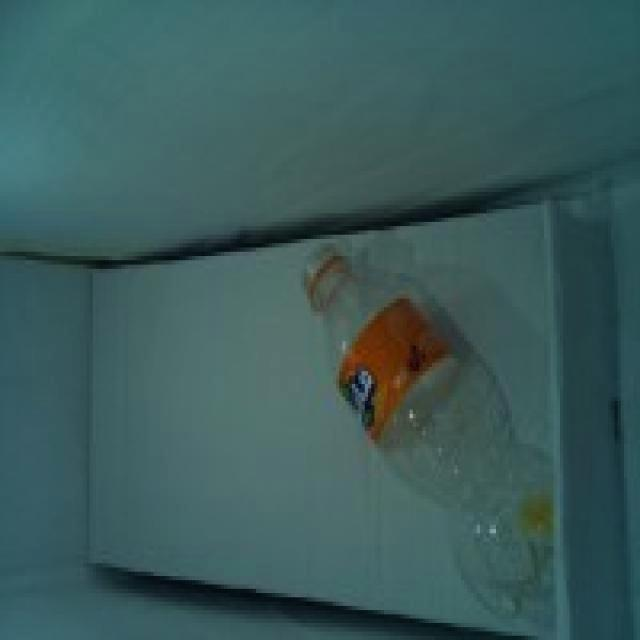bottle: (303, 244, 556, 620)
